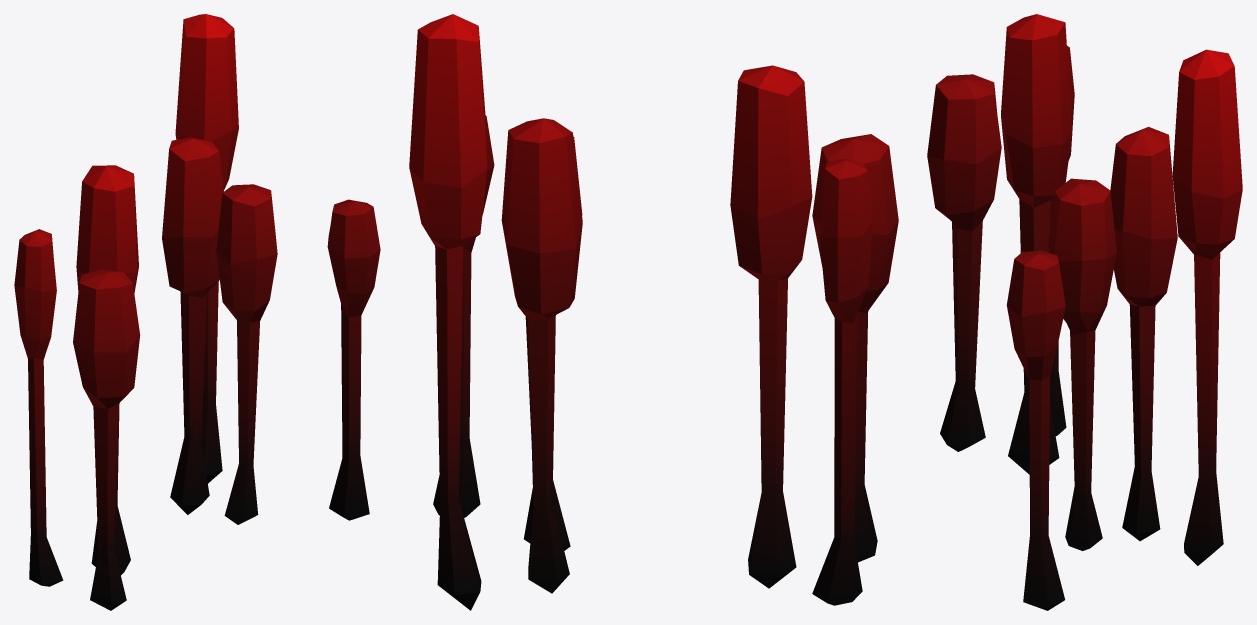
File: SM_Env_Plant_Balloon_Tall_02.fbx
3 views of the same model, side by side, from view 1: azimuth 30°, elevation 25°; view 2: azimuth 150°, elevation 25°; view 3: azimuth 270°, elevation 25° (orthographic). The views are drawn at different scales.
Visible parts, largest first — view 1: SM_Env_Plant_Balloon_Tall_02; view 2: SM_Env_Plant_Balloon_Tall_02; view 3: SM_Env_Plant_Balloon_Tall_02.
Boxes of the visible parts, bbox=[...] form: SM_Env_Plant_Balloon_Tall_02: bbox=[14, 14, 380, 610]; SM_Env_Plant_Balloon_Tall_02: bbox=[409, 14, 898, 610]; SM_Env_Plant_Balloon_Tall_02: bbox=[927, 14, 1242, 610].
Bounding box in the file's own units: 216 × 278 × 152.
